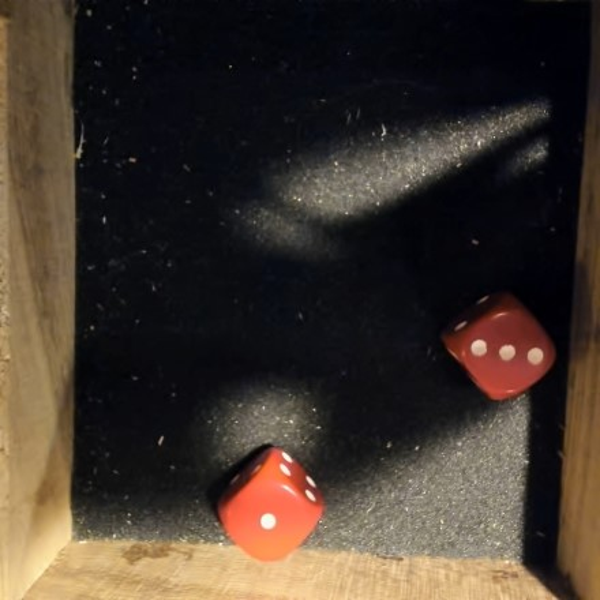red_die_pip1: (201, 434, 342, 575)
red_die_pip3: (429, 279, 563, 415)
